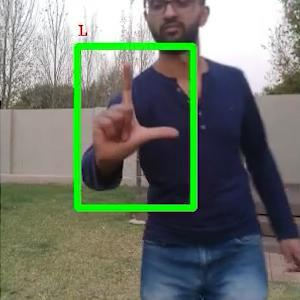land_hand: (91, 52, 187, 172)
